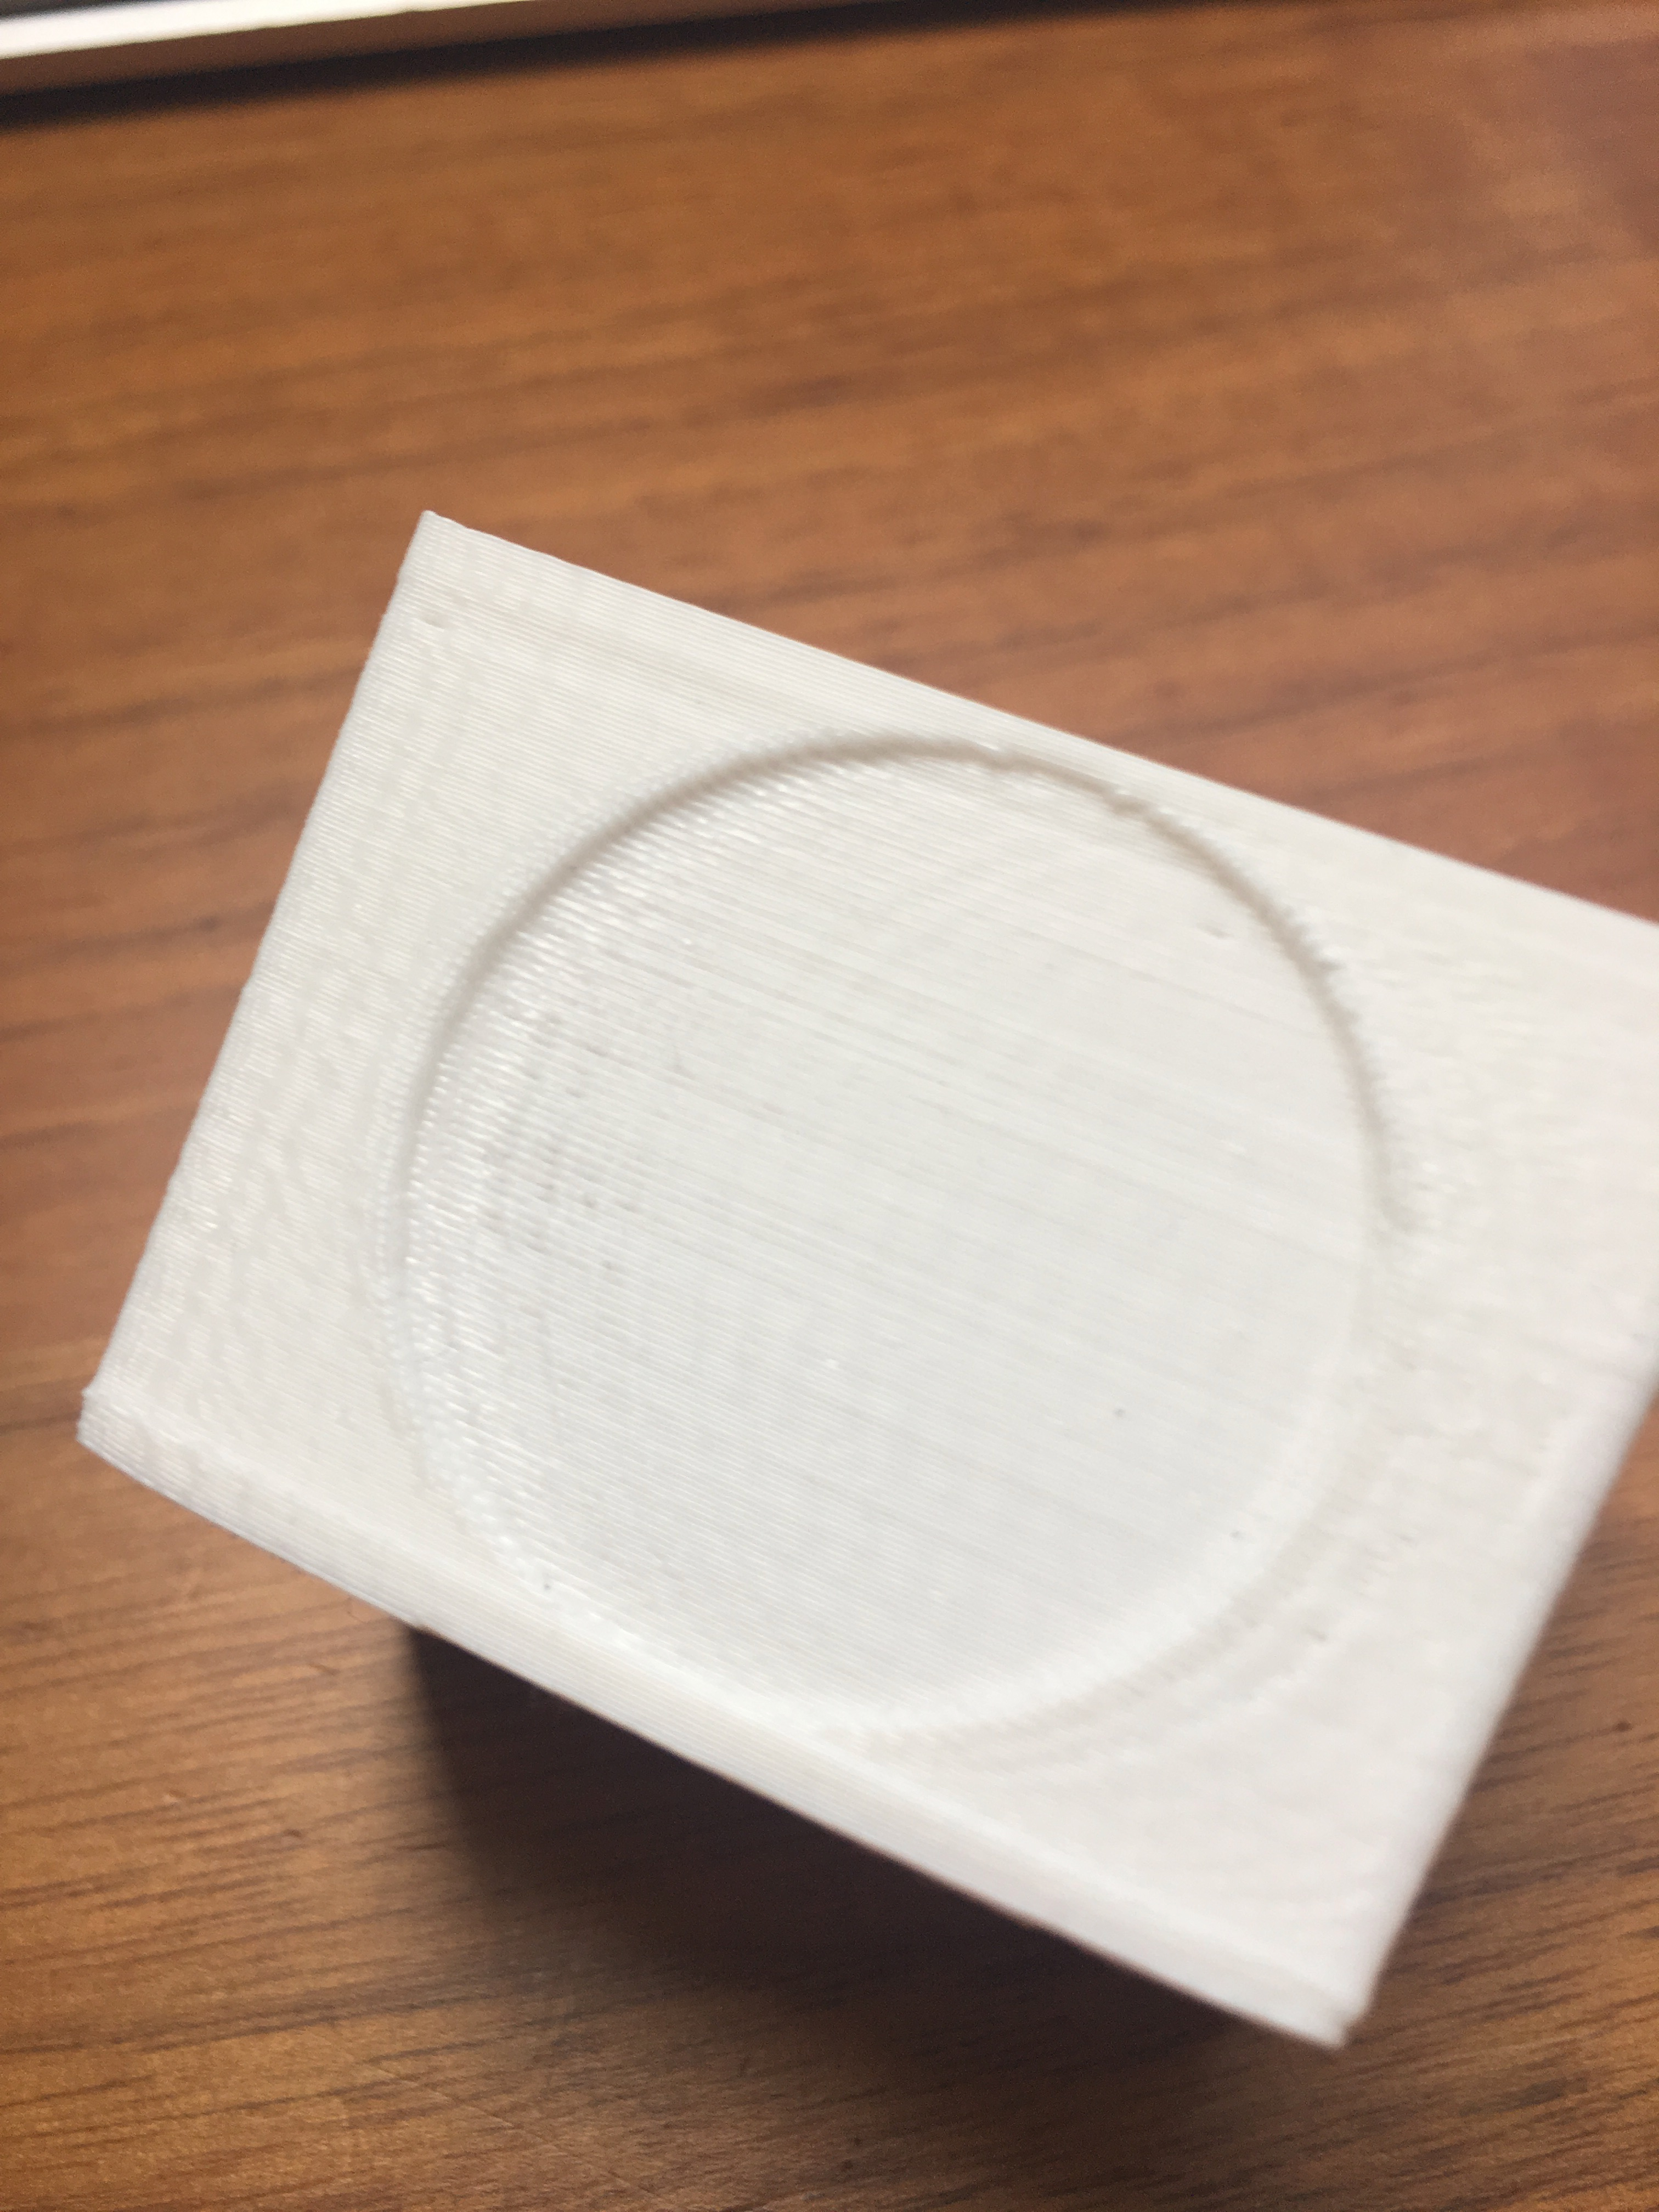3dpripples: (624, 857, 1171, 1599), (1061, 1627, 1473, 1876)
